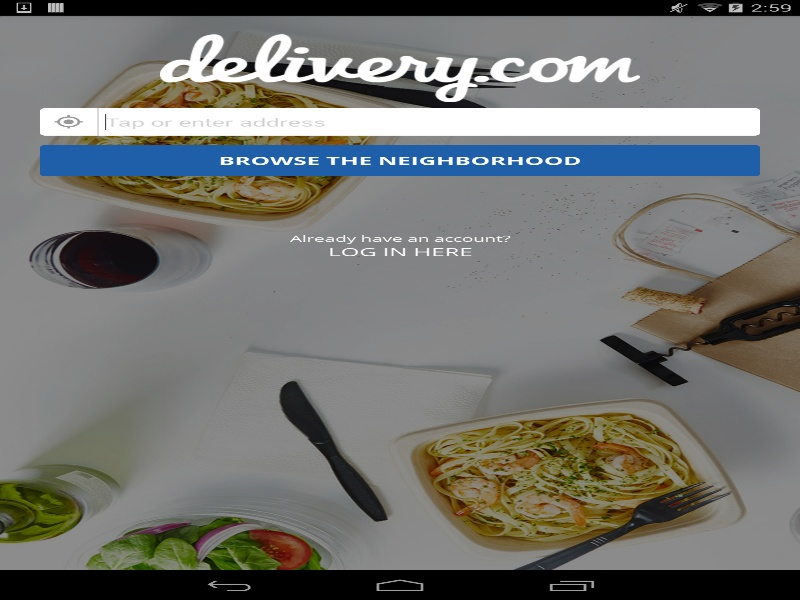Input: (100, 108, 760, 135)
